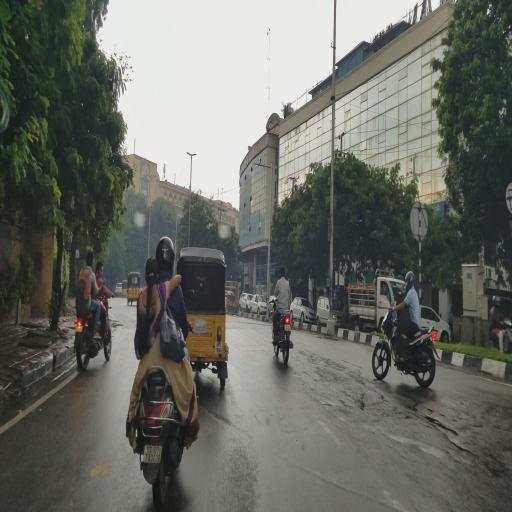street_light_0: (191, 146, 199, 163), (184, 146, 192, 163)
